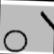no answer: (2, 28, 28, 53)
